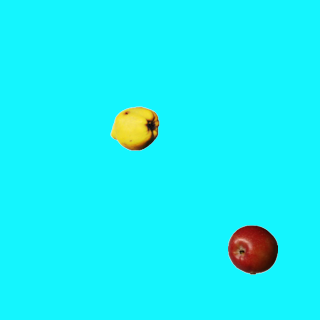Apple Braeburn: (227, 224, 277, 274)
Quince: (109, 103, 159, 153)
